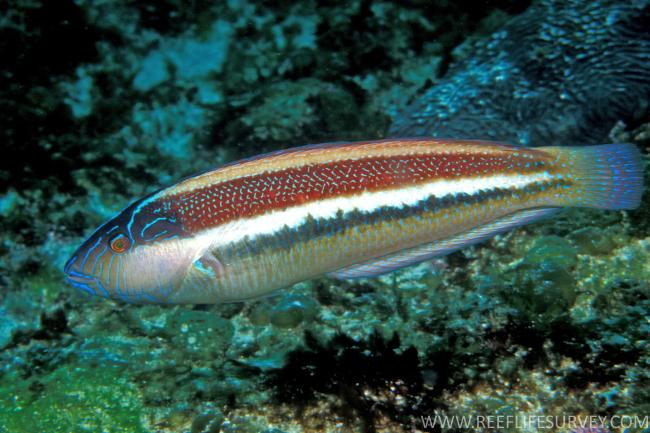fish: (64, 137, 645, 307)
